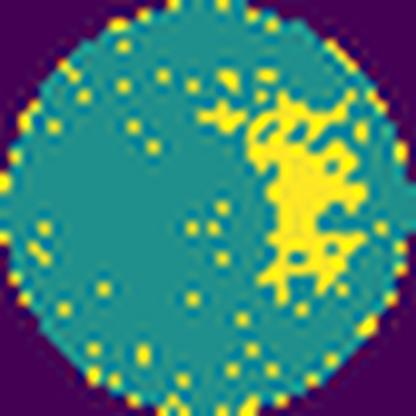Loc: (242, 89, 367, 302), (197, 103, 250, 132)
